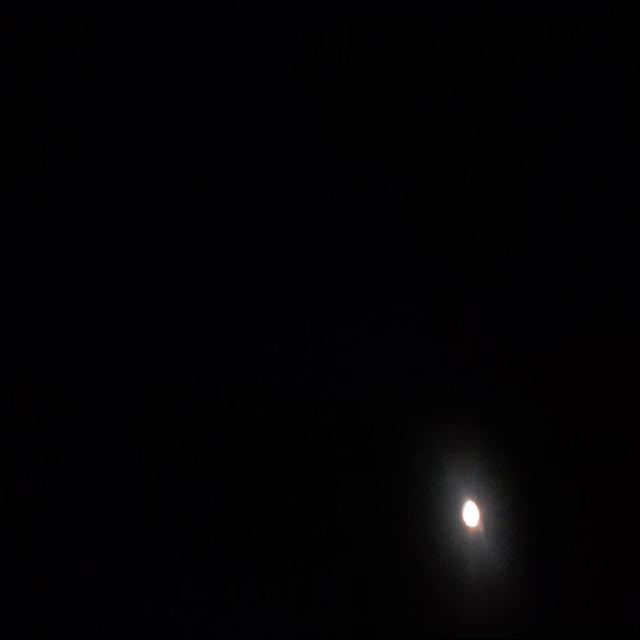moon: (459, 495, 482, 529)
